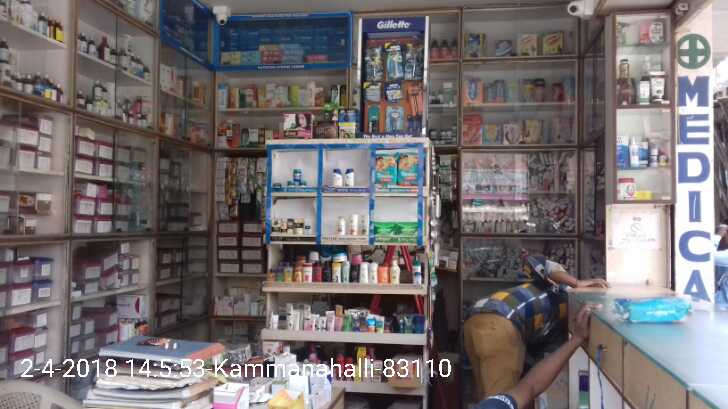vicks: (287, 181, 307, 188), (294, 169, 302, 179)
